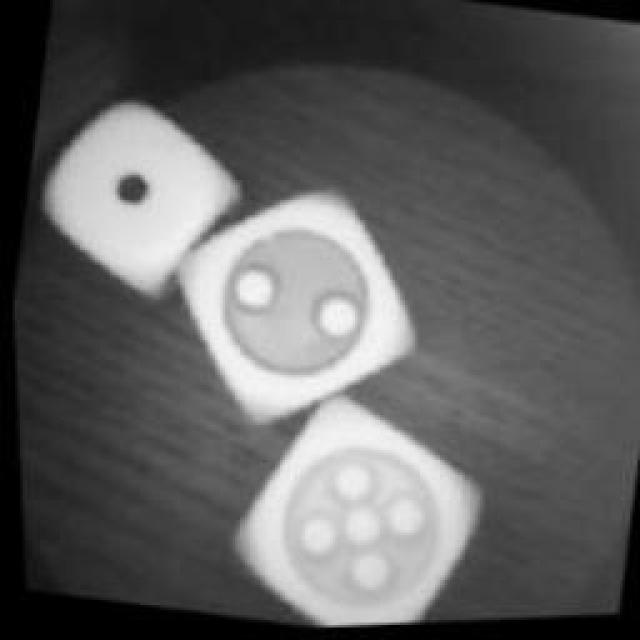dice_1: (19, 82, 251, 312)
dice_2: (154, 166, 438, 446)
dice_5: (218, 382, 490, 632)
